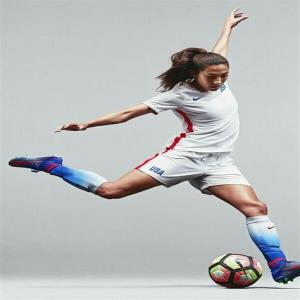Football: (208, 250, 264, 290)
